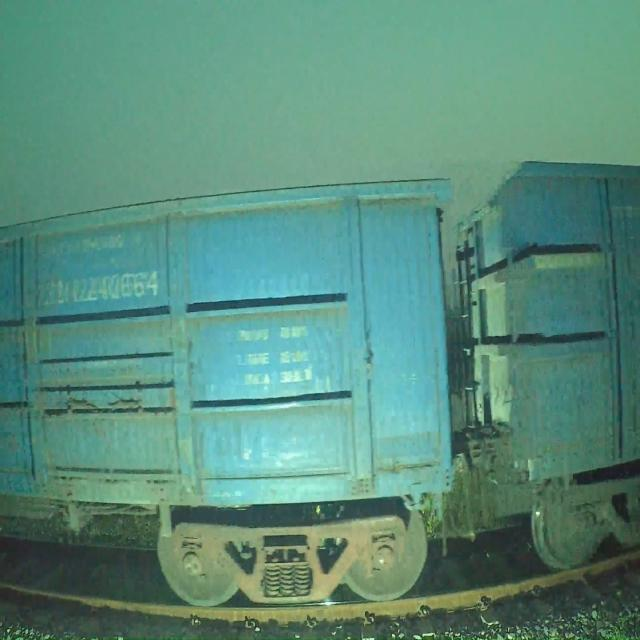WAgon-uic: (0, 172, 454, 612), (455, 162, 638, 574)
uic: (36, 260, 161, 304)
